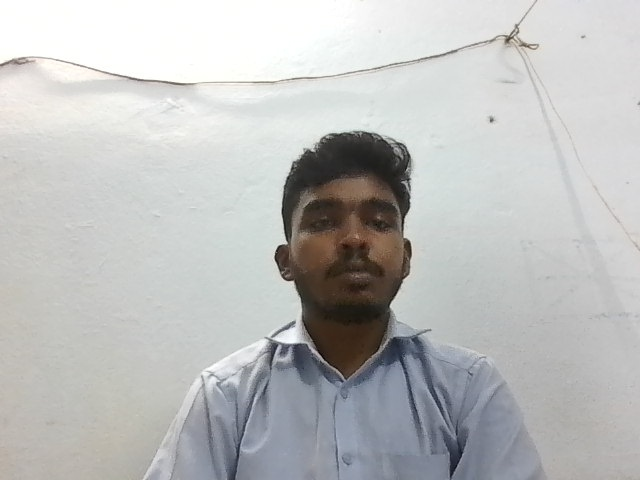real: (281, 131, 417, 324)
